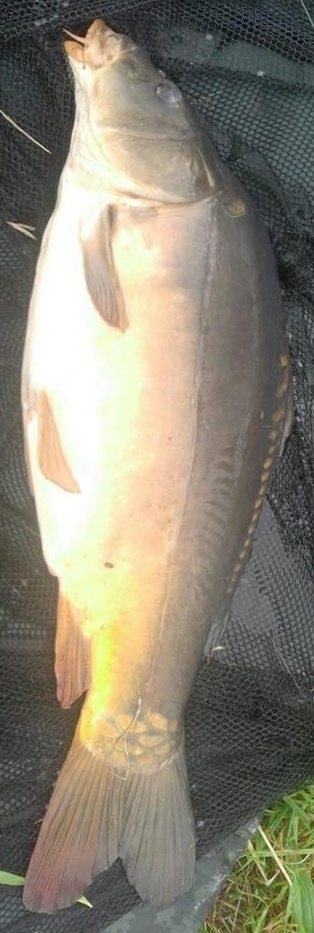Cyprinus carpio: (20, 20, 294, 913)
